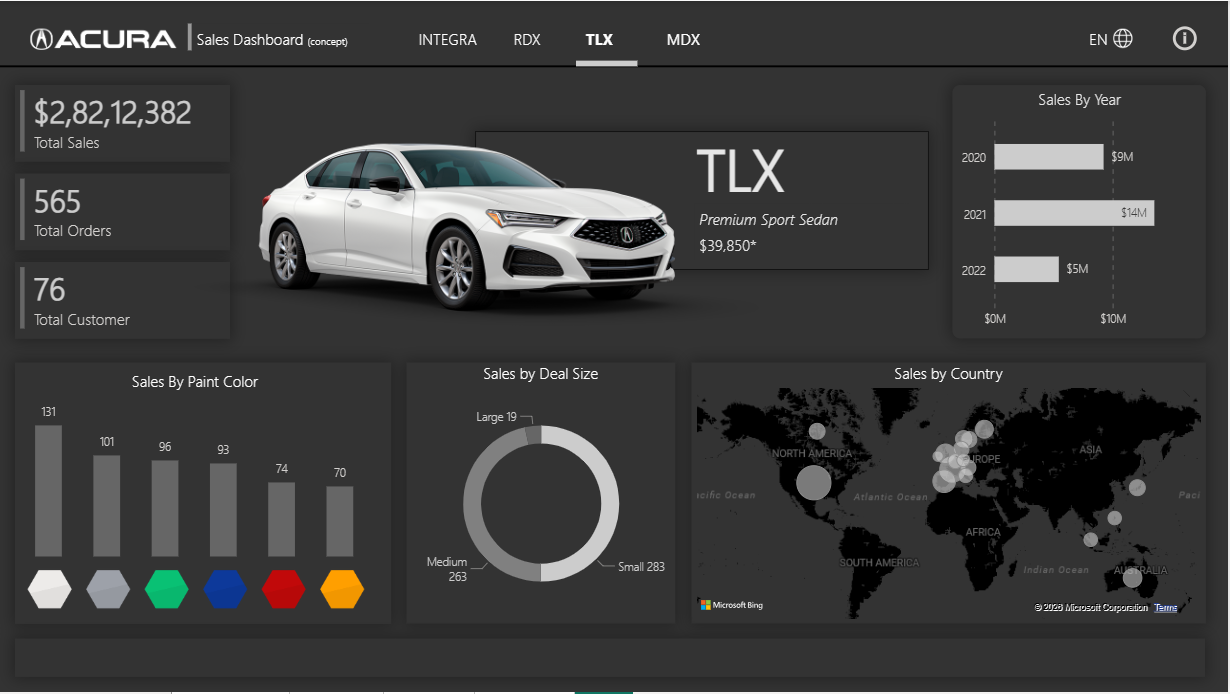

What the dashboard file says about the page in this screenshot:
{"tool":"powerbi","page":{"name":"TLX","canvas":[1280,720],"ordinal":2},"visuals":[{"type":"textbox","box":[427.1,22.7,80,32],"z":0,"group":"g1"},{"type":"textbox","box":[524.9,22.7,51.7,32],"z":0,"group":"g2"},{"type":"textbox","box":[599.5,22.7,51.7,32],"z":0,"group":"g3"},{"type":"textbox","box":[672,22.7,80,48],"z":0,"group":"g4"},{"type":"shape","box":[496,135.8,472,144],"z":0},{"type":"image","box":[16,22.7,184,32],"z":1000},{"type":"actionButton","box":[424,22.7,80,32],"z":1000,"group":"g1"},{"type":"actionButton","box":[522.7,22.7,56,32],"z":1000,"group":"g2"},{"type":"actionButton","box":[597.3,22.7,56,32],"z":1000,"group":"g3"},{"type":"actionButton","box":[672,22.7,72,32],"z":1000,"group":"g4"},{"type":"map","title":"Sales by Country","fields":{"Category":["Area.COUNTRY"],"Size":["Sales.Total Sales"]},"box":[720,376,536,272],"z":2000},{"type":"multiRowCard","title":"Key Metrics","fields":{"Values":["Sales.Total Sales"]},"box":[16,88,224,80],"z":3000},{"type":"multiRowCard","title":"Key Metrics","fields":{"Values":["Sales.Total Orders"]},"box":[16,180,224,80],"z":4000},{"type":"multiRowCard","title":"Key Metrics","fields":{"Values":["Sales.Total Customer"]},"box":[16,272,224,80],"z":5000},{"type":"multiRowCard","fields":{"Values":["Vehcile Model.Model Name"]},"box":[720,127.8,272,96],"z":6000},{"type":"multiRowCard","fields":{"Values":["Vehcile Model.Description"]},"box":[723,211.8,224,32],"z":7000},{"type":"multiRowCard","fields":{"Values":["Vehcile Model.Starting Price"]},"box":[723,237.8,224,32],"z":8000},{"type":"donutChart","title":"Sales by Deal Size","fields":{"Category":["Sales.DEALSIZE"],"Y":["CountNonNull(Sales.DEALSIZE)"]},"box":[424,376,280,272],"z":9000},{"type":"shape","box":[16,376,392,272],"z":10000},{"type":"image","box":[328,584,56,56],"z":11000},{"type":"image","box":[267.2,584,56,56],"z":12000},{"type":"image","box":[84.8,584,56,56],"z":13000},{"type":"image","box":[24,584,56,56],"z":14000},{"type":"image","box":[206.4,584,56,56],"z":15000},{"type":"image","box":[145.6,584,56,56],"z":16000},{"type":"clusteredColumnChart","title":"Sales By Paint  Color","fields":{"Category":["Sales.Ordered Color"],"Y":["Sales.Total Orders"]},"box":[32,384,344,200],"z":17000},{"type":"image","box":[128,16,720,400],"z":17500},{"type":"barChart","title":"Sales By Year","fields":{"Category":["Calender.Date.Variation.Date Hierarchy.Year"],"Y":["Sales.Total Sales"]},"box":[992,88,264,264],"z":18000},{"type":"group","id":"g1","title":"Group 1","box":[424,22.7,83.1,32],"z":19000},{"type":"group","id":"g2","title":"Group 1","box":[522.7,22.7,56,32],"z":20000},{"type":"group","id":"g3","title":"Group 1","box":[597.3,22.7,56,32],"z":21000},{"type":"group","id":"g4","title":"Group 1","box":[672,22.7,80,48],"z":22000},{"type":"shape","box":[0,64,1280,8],"z":23000},{"type":"textbox","box":[200,24,184,32],"z":24000},{"type":"shape","box":[165,24,64,28],"z":25000},{"type":"shape","box":[600,53,64,24],"z":26000},{"type":"shape","box":[16,664,1240,40],"z":27000},{"type":"image","box":[1152,21,36,36],"z":28000},{"type":"textbox","box":[1130.3,23,39,37],"z":29000},{"type":"actionButton","box":[1217,22,34,34],"z":35000}]}

Visuals, with their boxes in screenshot pixels (x1, y1, x2, y2), scaled from the page's 1280x720 canvas onto the 1230x694 screenshot:
textbox: <bbox>410, 22, 487, 53</bbox>
textbox: <bbox>504, 22, 554, 53</bbox>
textbox: <bbox>576, 22, 626, 53</bbox>
textbox: <bbox>646, 22, 723, 68</bbox>
shape: <bbox>477, 131, 930, 270</bbox>
image: <bbox>15, 22, 192, 53</bbox>
actionButton: <bbox>407, 22, 484, 53</bbox>
actionButton: <bbox>502, 22, 556, 53</bbox>
actionButton: <bbox>574, 22, 628, 53</bbox>
actionButton: <bbox>646, 22, 715, 53</bbox>
"Sales by Country" map: <bbox>692, 362, 1207, 625</bbox>
"Key Metrics" multiRowCard: <bbox>15, 85, 231, 162</bbox>
"Key Metrics" multiRowCard: <bbox>15, 174, 231, 251</bbox>
"Key Metrics" multiRowCard: <bbox>15, 262, 231, 339</bbox>
multiRowCard - Vehcile Model.Model Name: <bbox>692, 123, 953, 216</bbox>
multiRowCard - Vehcile Model.Description: <bbox>695, 204, 910, 235</bbox>
multiRowCard - Vehcile Model.Starting Price: <bbox>695, 229, 910, 260</bbox>
"Sales by Deal Size" donutChart: <bbox>407, 362, 676, 625</bbox>
shape: <bbox>15, 362, 392, 625</bbox>
image: <bbox>315, 563, 369, 617</bbox>
image: <bbox>257, 563, 311, 617</bbox>
image: <bbox>81, 563, 135, 617</bbox>
image: <bbox>23, 563, 77, 617</bbox>
image: <bbox>198, 563, 252, 617</bbox>
image: <bbox>140, 563, 194, 617</bbox>
"Sales By Paint  Color" clusteredColumnChart: <bbox>31, 370, 361, 563</bbox>
image: <bbox>123, 15, 815, 401</bbox>
"Sales By Year" barChart: <bbox>953, 85, 1207, 339</bbox>
"Group 1" group: <bbox>407, 22, 487, 53</bbox>
"Group 1" group: <bbox>502, 22, 556, 53</bbox>
"Group 1" group: <bbox>574, 22, 628, 53</bbox>
"Group 1" group: <bbox>646, 22, 723, 68</bbox>
shape: <bbox>0, 62, 1229, 69</bbox>
textbox: <bbox>192, 23, 369, 54</bbox>
shape: <bbox>159, 23, 220, 50</bbox>
shape: <bbox>577, 51, 638, 74</bbox>
shape: <bbox>15, 640, 1207, 679</bbox>
image: <bbox>1107, 20, 1142, 55</bbox>
textbox: <bbox>1086, 22, 1124, 58</bbox>
actionButton: <bbox>1169, 21, 1202, 54</bbox>
